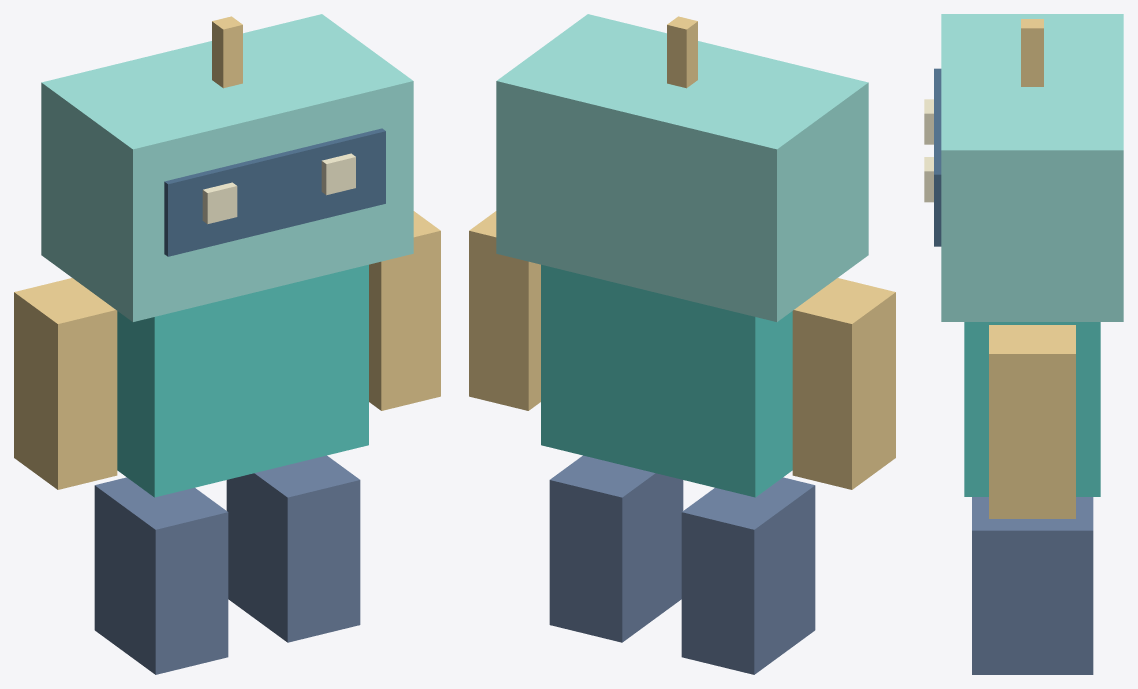
File: robot.glb
The picture shows the model from 3 angles, left to right: view 1: azimuth 30°, elevation 25°; view 2: azimuth 150°, elevation 25°; view 3: azimuth 270°, elevation 25°; orthographic projection.
Visible parts, largest first — view 1: head, body, foot-left, foot-right, arm-left, visor, arm-right, antenna, eye-left, eye-right; view 2: head, body, foot-left, foot-right, arm-left, arm-right, antenna; view 3: head, foot-right, arm-right, body, antenna, visor, eye-left, eye-right.
Boxes of the visible parts, bbox=[...] form: head: bbox=[41, 14, 413, 321]; body: bbox=[117, 264, 368, 497]; foot-left: bbox=[94, 477, 228, 674]; foot-right: bbox=[226, 455, 360, 642]; arm-left: bbox=[14, 278, 117, 489]; visor: bbox=[164, 128, 385, 256]; arm-right: bbox=[369, 211, 440, 410]; antenna: bbox=[212, 16, 242, 88]; eye-left: bbox=[202, 182, 237, 224]; eye-right: bbox=[321, 153, 355, 195]; head: bbox=[496, 14, 868, 321]; body: bbox=[541, 264, 792, 497]; foot-left: bbox=[681, 477, 815, 674]; foot-right: bbox=[549, 455, 683, 642]; arm-left: bbox=[792, 278, 895, 489]; arm-right: bbox=[469, 211, 540, 410]; antenna: bbox=[667, 16, 697, 88]; head: bbox=[941, 14, 1123, 321]; foot-right: bbox=[972, 497, 1093, 674]; arm-right: bbox=[989, 325, 1075, 518]; body: bbox=[964, 322, 1100, 496]; antenna: bbox=[1021, 19, 1043, 86]; visor: bbox=[934, 68, 941, 246]; eye-left: bbox=[924, 99, 933, 144]; eye-right: bbox=[924, 157, 933, 202].
Size of the model in its own units: 1.16 by 1.75 by 0.525.
